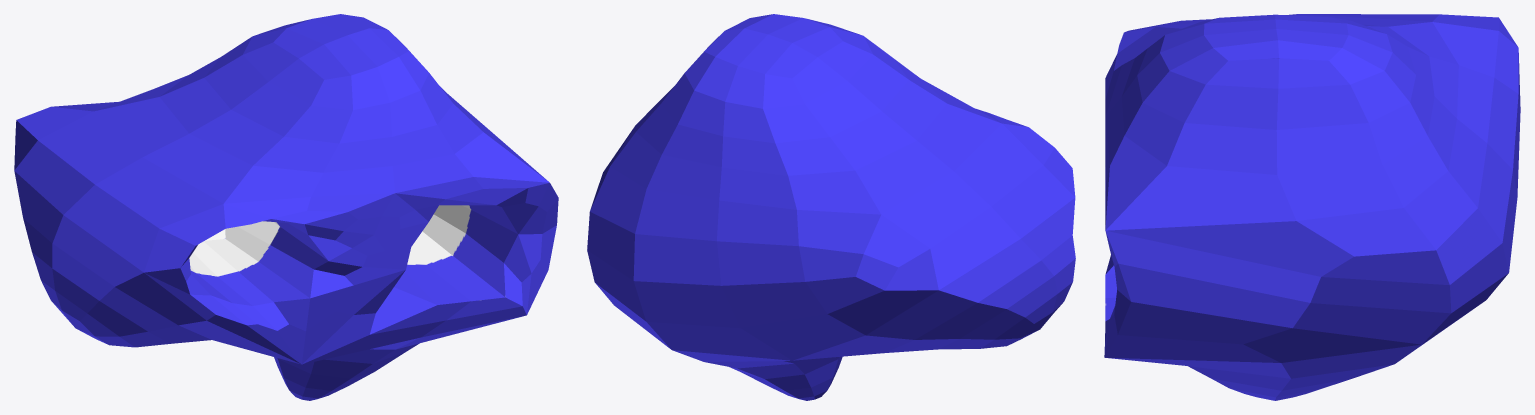
File: enganche3.obj
3 renders of one model, left to right at view 1: azimuth 30°, elevation 25°; view 2: azimuth 150°, elevation 25°; view 3: azimuth 270°, elevation 25°, orthographic. The views are drawn at different scales.
Parts seen in each view (by area): view 1: Cube_Cube.001; view 2: Cube_Cube.001; view 3: Cube_Cube.001.
Part boxes in pixels (x1,y1,x2,y2): Cube_Cube.001: (14,14,558,400); Cube_Cube.001: (587,14,1075,400); Cube_Cube.001: (1104,14,1520,400).
Bounding box in the file's own units: 10.63 × 8.27 × 7.99.
1 material, 1 textured.
